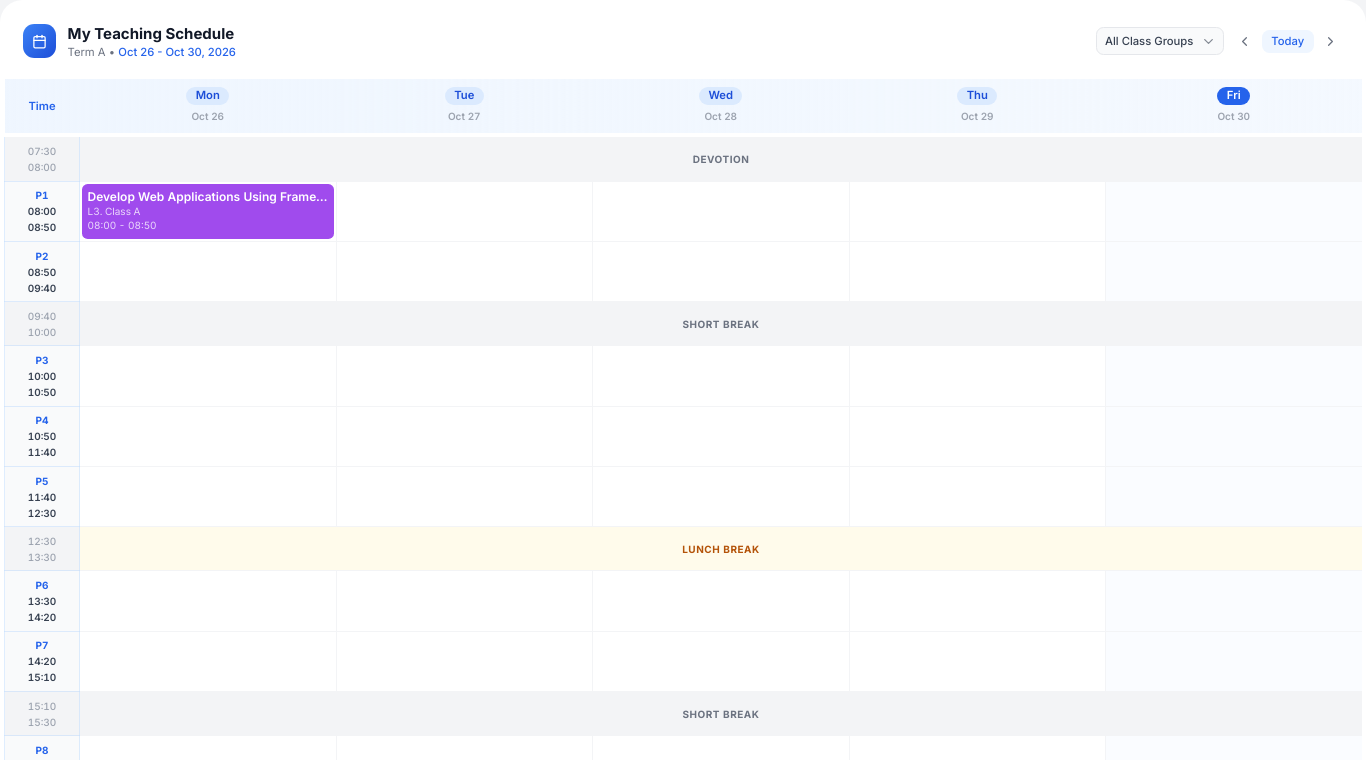
Scenario: DashboardCalendarWidget — class group filter › shows the full subject name and class group on hover
Hover over the text "Develop Web Applications Using Frameworks" at point(208, 197), box [88,189,328,204]
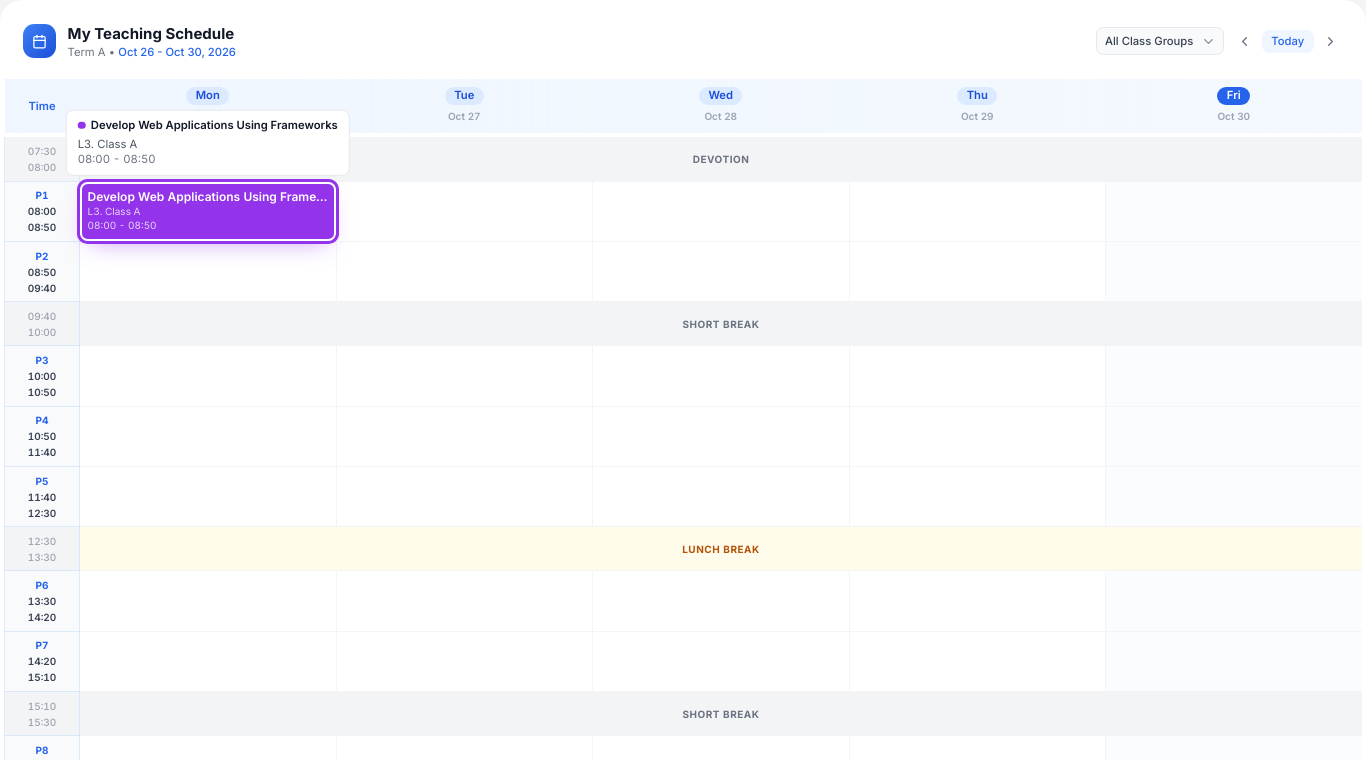
Expected: the tooltip shows "Develop Web Applications Using Frameworks", [91,118,338,132]
Expected: the tooltip shows "L3. Class A", [78,137,137,151]
Expected: the tooltip shows "08:00 - 08:50", [66,109,350,176]
